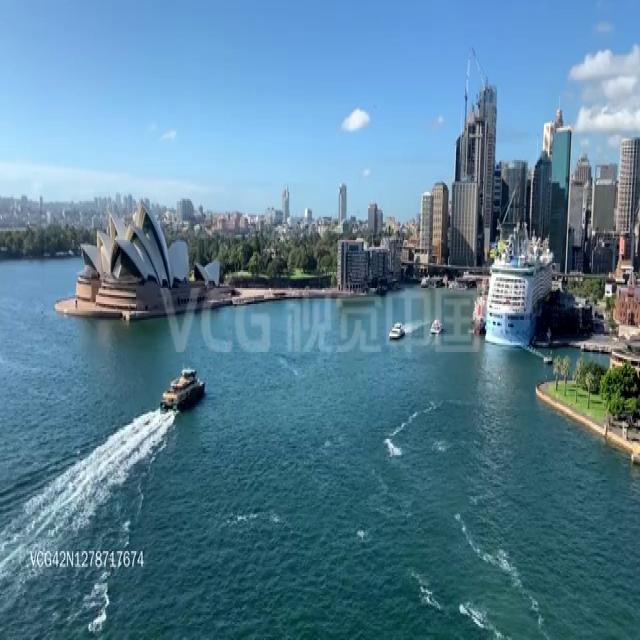houseboat: (159, 362, 206, 412), (387, 314, 406, 348), (426, 314, 445, 340)
passenger ship: (482, 224, 554, 350)
